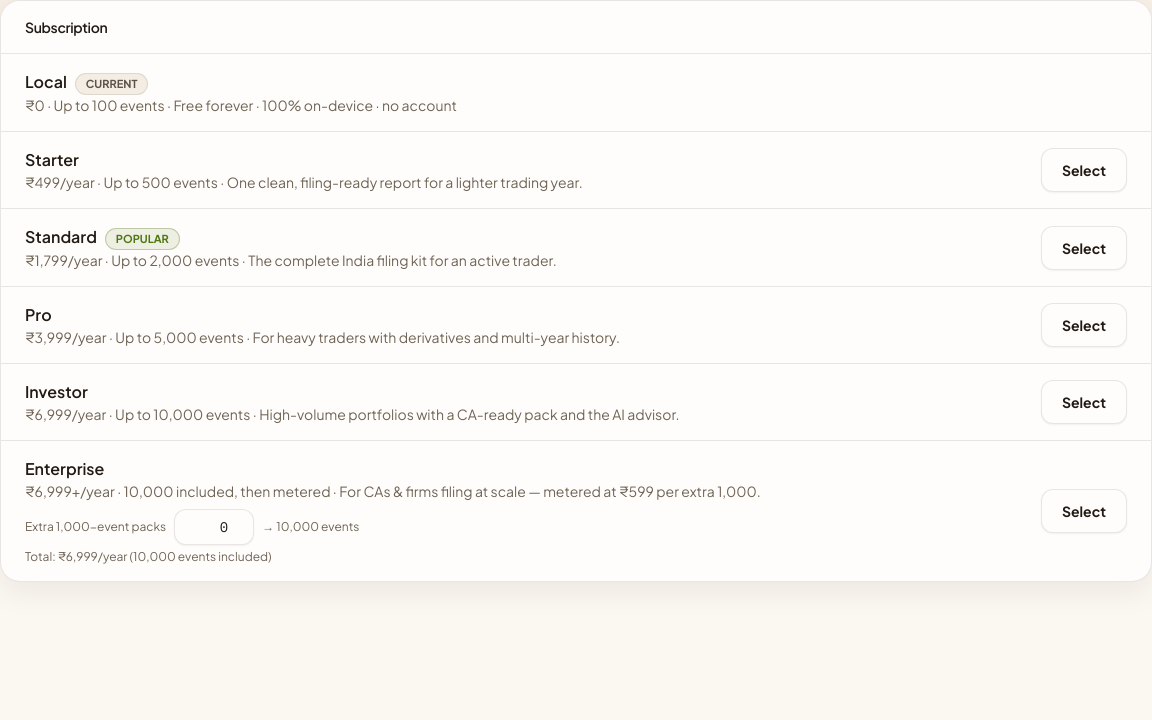
Scenario: SubscriptionCard — Item 4: Enterprise total + Select › recomputes live for 3 packs with the exact breakdown string
Replace the text in the number field named "Enterprise extra 1,000-event packs" with "3": (214, 527) x1=174 y1=509 x2=254 y2=545
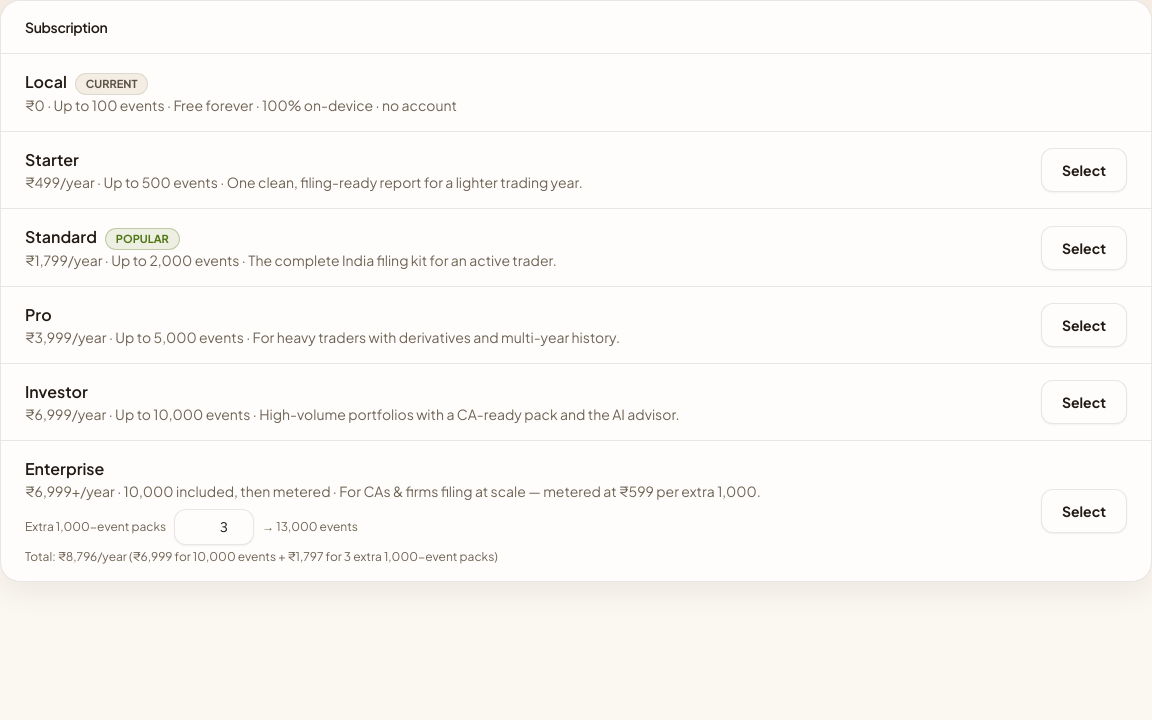
Expected: the text "Total: ₹8,796/year (₹6,999 for 10,000 events + ₹1,797 for 3 extra 1,000-event packs)" is shown, x1=25 y1=549 x2=498 y2=564
Expected: the text "→ 13,000 events" is shown, x1=262 y1=519 x2=358 y2=535
